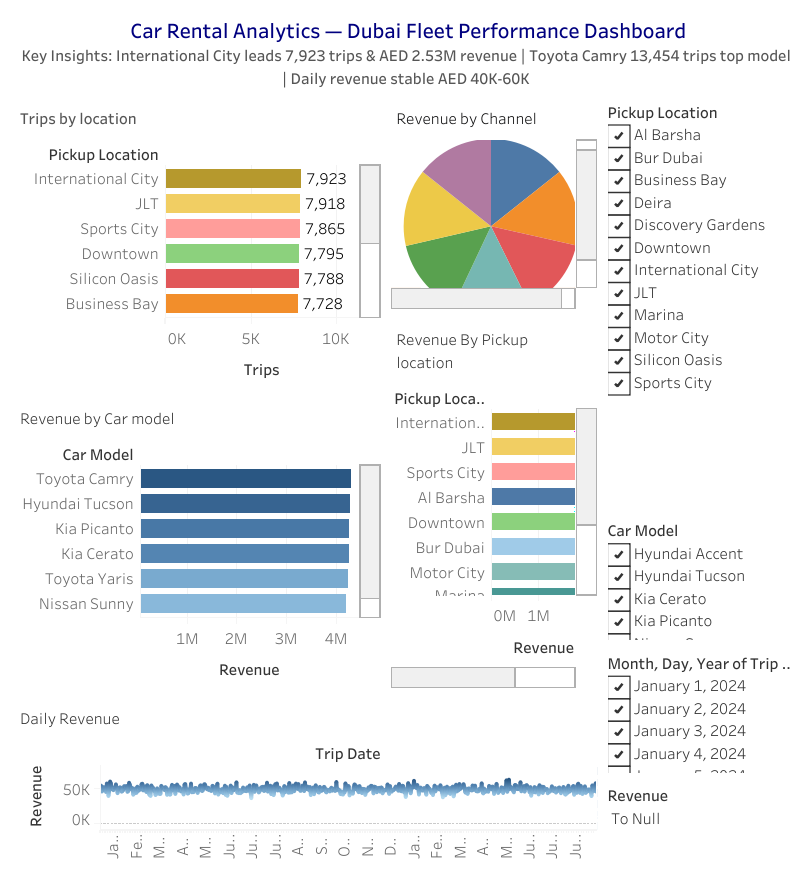

What the dashboard file says about the page in this screenshot:
{"tool":"tableau","page":{"name":"Dashboard ","canvas":[650,860],"ordinal":0},"visuals":[{"type":"title","box":[8,10.7,634,104.2]},{"type":"worksheet","title":"Sheet 2","mark":"Automatic","rows":["pickup_location"],"cols":["trips"],"box":[8,114.8,300.5,285.4]},{"type":"worksheet","title":"Sheet 9","mark":"Pie","box":[308.5,114.8,173.5,210.6]},{"type":"filter","title":"Sheet 2","param":"[federated.0sdzny21veg8et17s0fi60bcxmqg].[none:pickup_location:nk]","box":[482,114.8,160,447.4]},{"type":"worksheet","title":"Sheet 1","mark":"Bar","rows":["pickup_location"],"cols":["revenue"],"box":[308.5,325.4,173.5,360.3]},{"type":"worksheet","title":"Sheet 4","mark":"Automatic","rows":["car_model"],"cols":["revenue"],"box":[8,400.2,300.5,285.4]},{"type":"filter","title":"Sheet 4","param":"[federated.1r9grgd1iva4t31c0bpvk1j3ytdy].[none:car_model:nk]","box":[482,562.2,160,95.7]},{"type":"filter","title":"Sheet 8","param":"[federated.1ji82in0xebpho1456jj31ekuumy].[md:trip_date:ok]","box":[482,657.9,160,95.7]},{"type":"worksheet","title":"Sheet 8","mark":"Automatic","rows":["revenue"],"cols":["trip_date"],"box":[8,685.7,474,163.6]},{"type":"filter","title":"Sheet 1","param":"[federated.0sdzny21veg8et17s0fi60bcxmqg].[sum:revenue:qk]","box":[482,753.6,160,95.7]}]}

Visuals, with their boxes on the page's 650x860 design canvas (x1, y1, x2, y2). These are canvas units, not pixel positions in the 811x874 screenshot, which may show the page scaled, cropped or inside an application window:
title: 8 11 642 115
"Sheet 2" worksheet: 8 115 308 400
"Sheet 9" worksheet (Pie marks): 308 115 482 325
"Sheet 2" filter: 482 115 642 562
"Sheet 1" worksheet (Bar marks): 308 325 482 686
"Sheet 4" worksheet: 8 400 308 686
"Sheet 4" filter: 482 562 642 658
"Sheet 8" filter: 482 658 642 754
"Sheet 8" worksheet: 8 686 482 849
"Sheet 1" filter: 482 754 642 849
